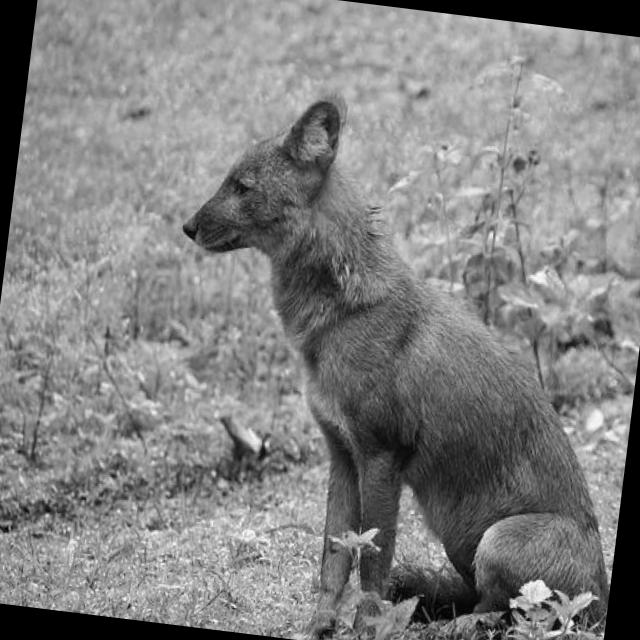sitting: (128, 66, 640, 640)
